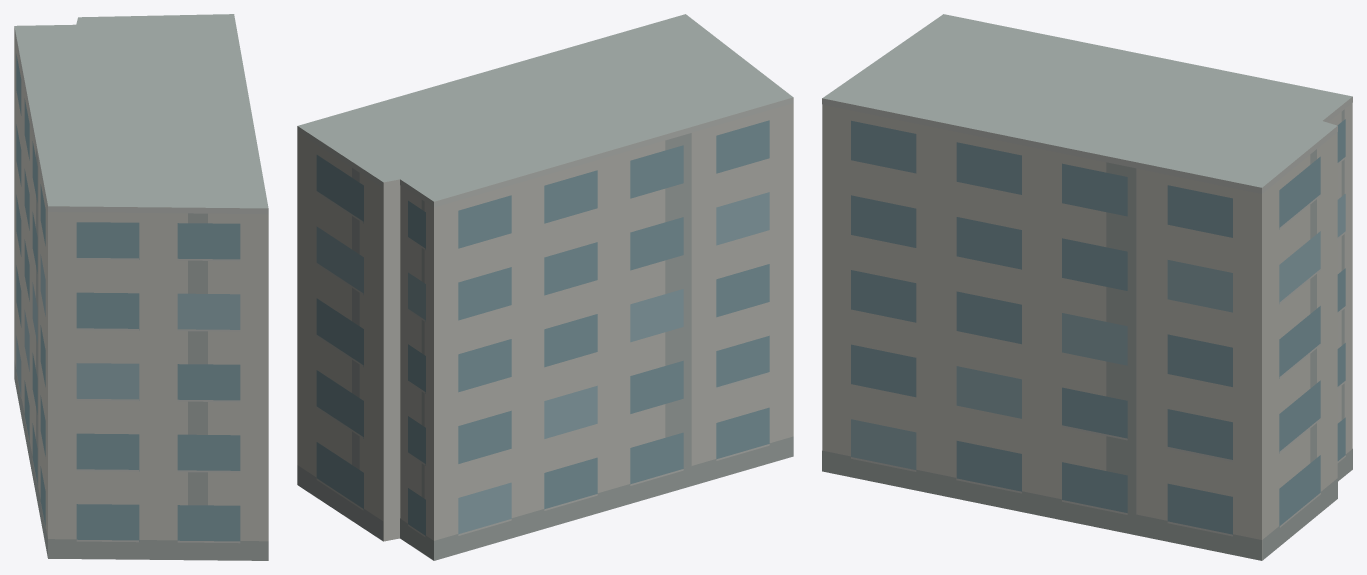
File: survey-upis-32937624.glb
The picture shows the model from 3 angles, left to right: view 1: azimuth 30°, elevation 25°; view 2: azimuth 150°, elevation 25°; view 3: azimuth 270°, elevation 25°; orthographic projection. The views are drawn at different scales.
Parts seen in each view (by area): view 1: survey-upis-32937624.tmp; view 2: survey-upis-32937624.tmp; view 3: survey-upis-32937624.tmp.
Part boxes in pixels (x1=…): survey-upis-32937624.tmp: x1=14, y1=14, x2=268, y2=560; survey-upis-32937624.tmp: x1=297, y1=14, x2=793, y2=560; survey-upis-32937624.tmp: x1=822, y1=14, x2=1352, y2=560.
Size of the model in its own units: 14.8 by 14.8 by 19.08.
